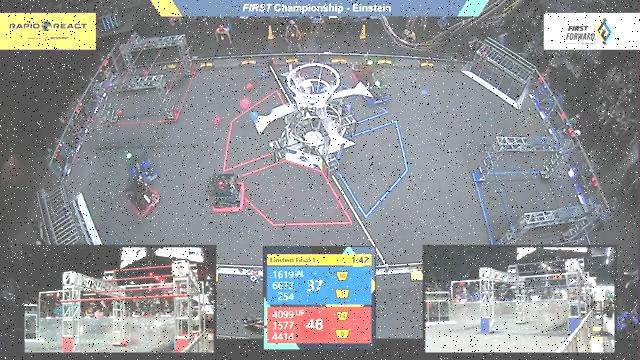Robot: (201, 167, 248, 218), (123, 179, 163, 222), (120, 148, 163, 187), (346, 56, 378, 87), (358, 80, 393, 108)
